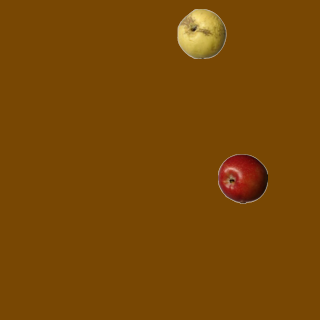Apple Braeburn: (217, 153, 267, 203)
Apple Golden 1: (176, 8, 226, 58)
